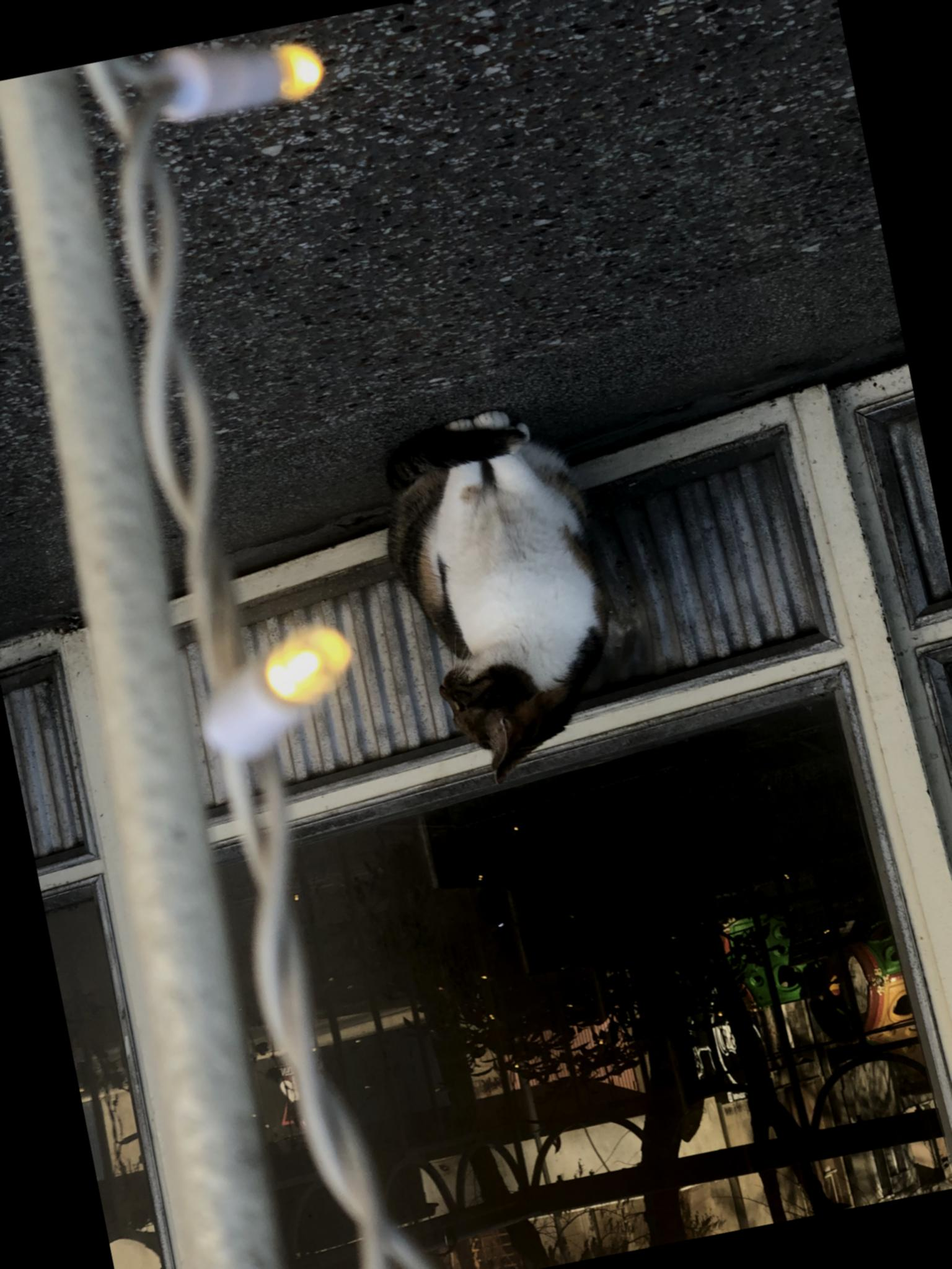macka: (363, 396, 643, 802)
